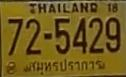2: (25, 18, 40, 54), (88, 17, 102, 53)
4: (72, 17, 86, 53)
5: (54, 18, 69, 53)
7: (7, 18, 22, 55)
9: (105, 16, 120, 51)
SPK: (27, 58, 103, 74)
